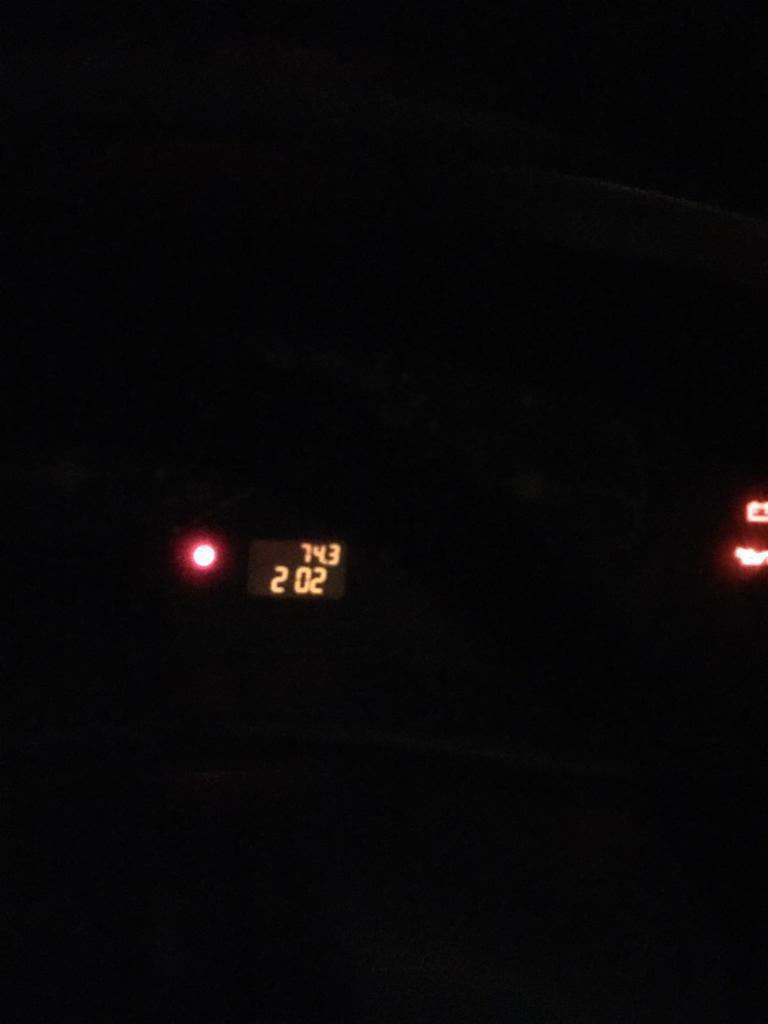,: (324, 558, 329, 564)
0: (295, 564, 310, 593)
2: (269, 563, 288, 593), (311, 565, 327, 594)
3: (328, 541, 341, 565)
4: (313, 543, 325, 562)
7: (299, 540, 313, 563)
odometer: (247, 537, 346, 596)
